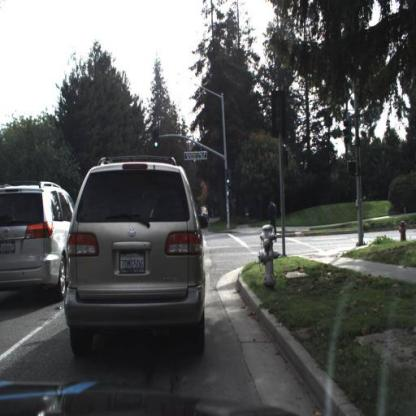car: (62, 151, 209, 361), (1, 171, 76, 311)
pedestrian: (268, 189, 283, 249)
trafficLight-Green: (153, 130, 161, 151), (224, 171, 232, 188)
